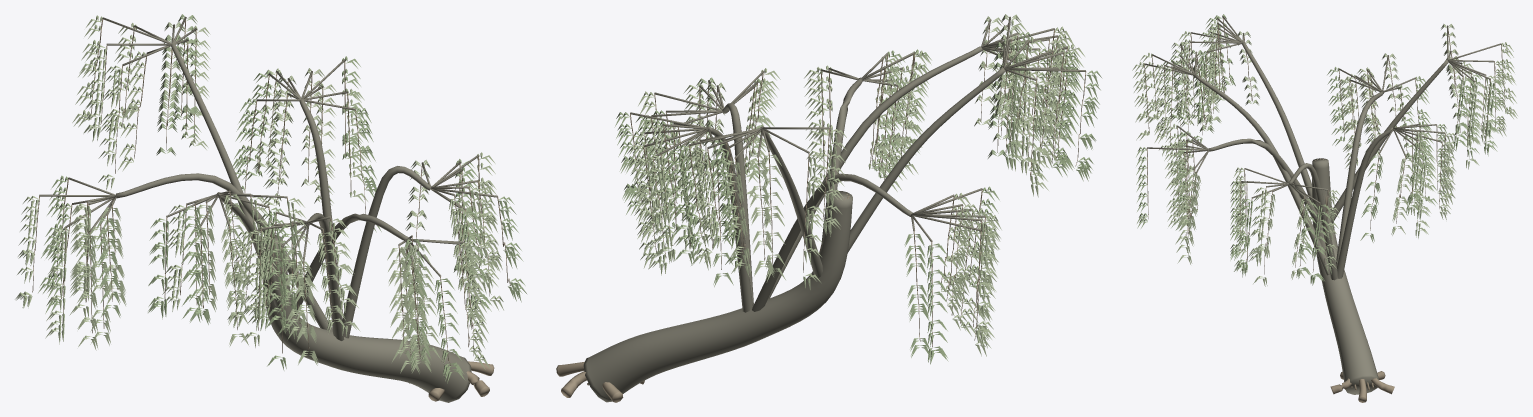
File: grove-willow-2.glb
3 views of the same model, side by side, from view 1: azimuth 30°, elevation 25°; view 2: azimuth 150°, elevation 25°; view 3: azimuth 270°, elevation 25° (orthographic). The views are drawn at different scales.
Parts seen in each view (by area): view 1: grove-willow-2; view 2: grove-willow-2; view 3: grove-willow-2.
Boxes of the visible parts, x1,y1,x2,y2 form: grove-willow-2: (15, 14, 526, 402); grove-willow-2: (556, 14, 1102, 402); grove-willow-2: (1132, 14, 1517, 402).
Size of the model in its own units: 8.72 by 7.03 by 9.03.
